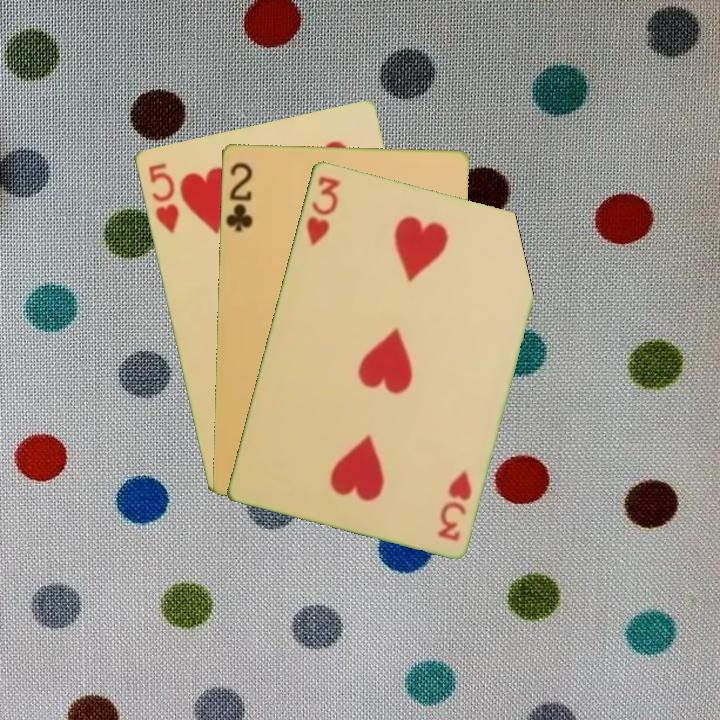2c: (222, 158, 256, 235)
3h: (433, 467, 474, 544), (302, 172, 343, 248)
5h: (144, 158, 182, 236)
